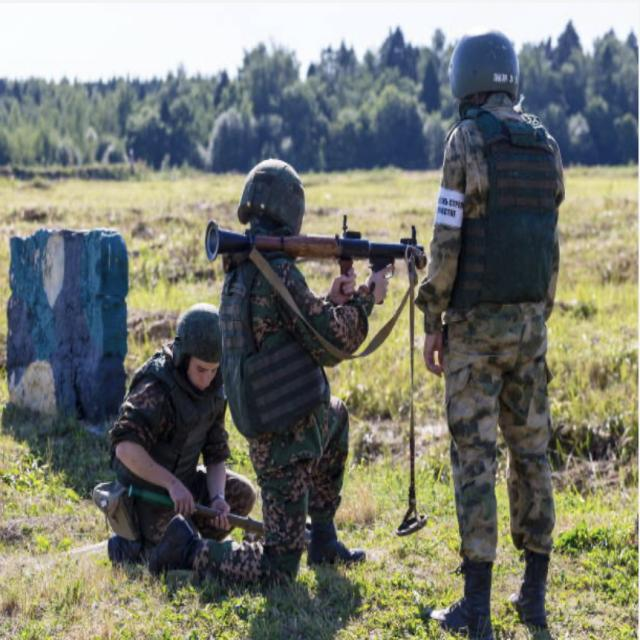bazooka: (205, 215, 434, 278)
